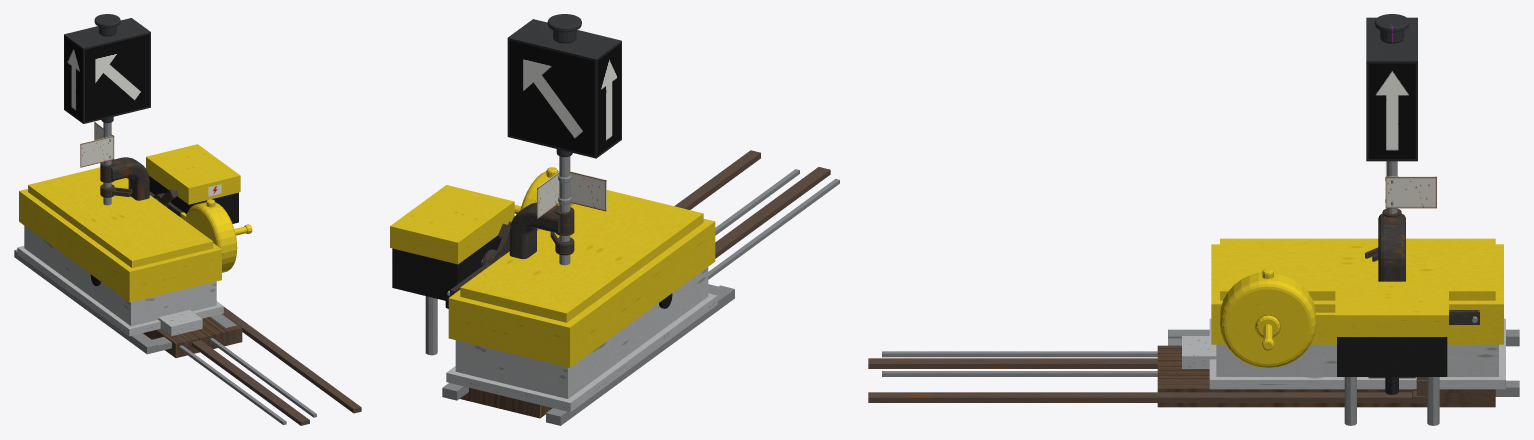
Rendered from prestavnik_cz.obj.
3 renders of one model, left to right at view 1: azimuth 30°, elevation 25°; view 2: azimuth 150°, elevation 25°; view 3: azimuth 270°, elevation 25°, orthographic. The views are drawn at different scales.
Visible parts, largest first — view 1: ep_viko_6xx, ep_skrin, vm_nav_ctverec, ep_svorkovnice_viko, vm_zavazi_zlute, vm_prazce, vm_tahlo, vm_nav_skrin, vm_nav_bok_sipka, ep_tahlo, ep_kontrolni, ep_ram (+4 smaller); view 2: ep_viko_6xx, ep_skrin, vm_nav_ctverec, ep_svorkovnice_viko, ep_svorkovnice, vm_nav_skrin, vm_nav_bok_sipka, vm_stojan, ep_ram, vm_stitek, ep_tahlo, ep_kontrolni (+5 smaller); view 3: ep_viko_6xx, ep_skrin, vm_zavazi_zlute, ep_svorkovnice_viko, vm_tahlo, ep_svorkovnice, vm_nav_bok_sipka, vm_prazce, ep_kontrolni, ep_tahlo, vm_nav_skrin, vm_stojan (+2 smaller).
Boxes of the visible parts, x1,y1,x2,y2 form: ep_viko_6xx: [19, 167, 221, 302]; ep_skrin: [17, 226, 223, 336]; vm_nav_ctverec: [83, 32, 150, 123]; ep_svorkovnice_viko: [146, 144, 240, 204]; vm_zavazi_zlute: [180, 199, 252, 272]; vm_prazce: [143, 313, 242, 357]; vm_tahlo: [223, 307, 361, 413]; vm_nav_skrin: [64, 14, 150, 48]; vm_nav_bok_sipka: [64, 34, 83, 123]; ep_tahlo: [191, 340, 309, 425]; ep_kontrolni: [179, 338, 316, 424]; ep_ram: [14, 249, 236, 354]; ep_viko_6xx: [448, 190, 715, 367]; ep_skrin: [446, 267, 717, 412]; vm_nav_ctverec: [507, 38, 596, 158]; ep_svorkovnice_viko: [390, 185, 514, 264]; ep_svorkovnice: [392, 235, 501, 355]; vm_nav_skrin: [508, 14, 621, 59]; vm_nav_bok_sipka: [596, 41, 621, 158]; vm_stojan: [481, 202, 574, 263]; ep_ram: [442, 284, 734, 425]; vm_stitek: [537, 171, 606, 218]; ep_tahlo: [715, 167, 830, 258]; ep_kontrolni: [708, 169, 839, 279]; ep_viko_6xx: [1211, 238, 1503, 344]; ep_skrin: [1182, 318, 1505, 389]; vm_zavazi_zlute: [1220, 268, 1335, 367]; ep_svorkovnice_viko: [1335, 281, 1448, 336]; vm_tahlo: [868, 392, 1412, 402]; ep_svorkovnice: [1337, 337, 1447, 425]; vm_nav_bok_sipka: [1366, 61, 1417, 161]; vm_prazce: [1157, 345, 1495, 407]; ep_kontrolni: [882, 351, 1157, 376]; ep_tahlo: [868, 358, 1157, 368]; vm_nav_skrin: [1366, 14, 1417, 61]; vm_stojan: [1368, 208, 1415, 378].
Size of the model in its own units: 0.705 by 1.14 by 1.89.
